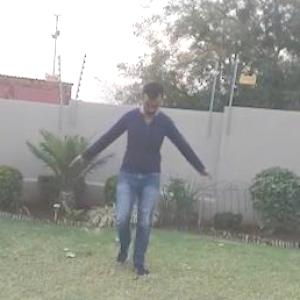land: (74, 74, 220, 292)
